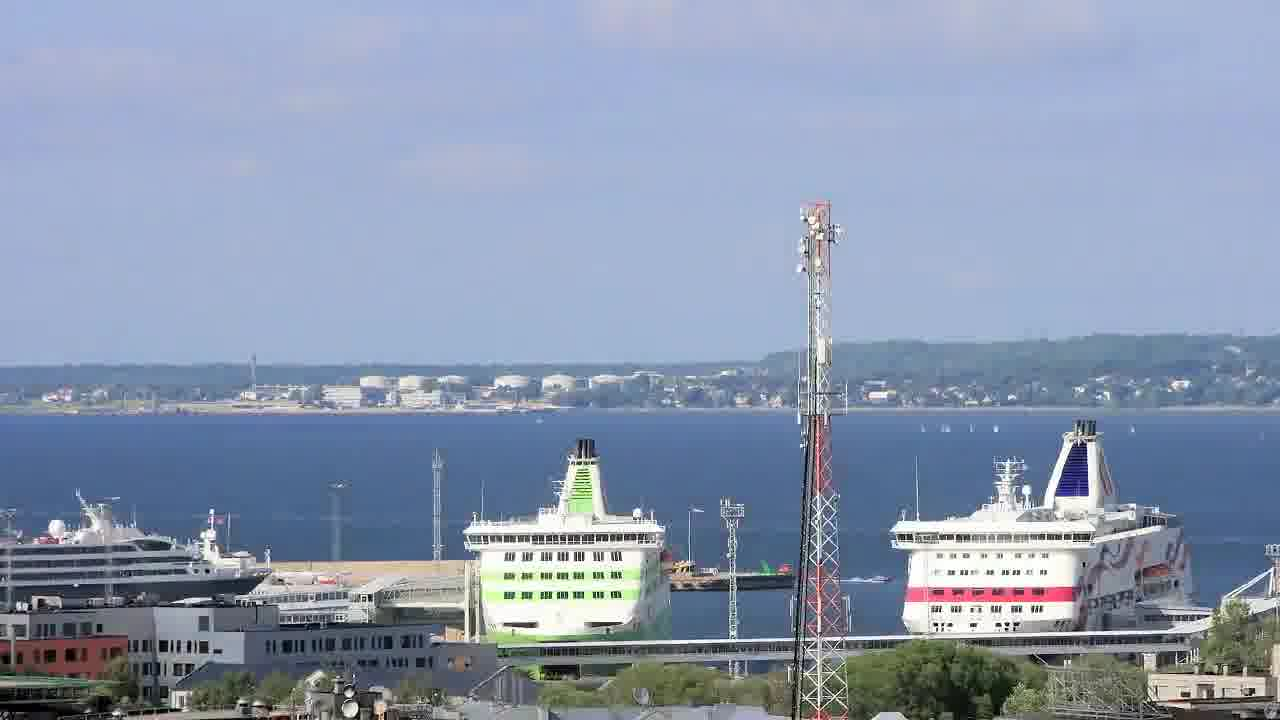type-0: (852, 565, 898, 598)
type-3: (868, 415, 1225, 638), (436, 434, 694, 670), (0, 478, 282, 607), (238, 559, 357, 613)
